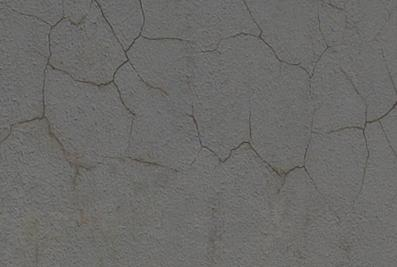fissura: (7, 5, 397, 209)
